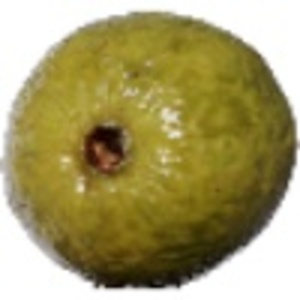goiaba: (4, 6, 298, 294)
